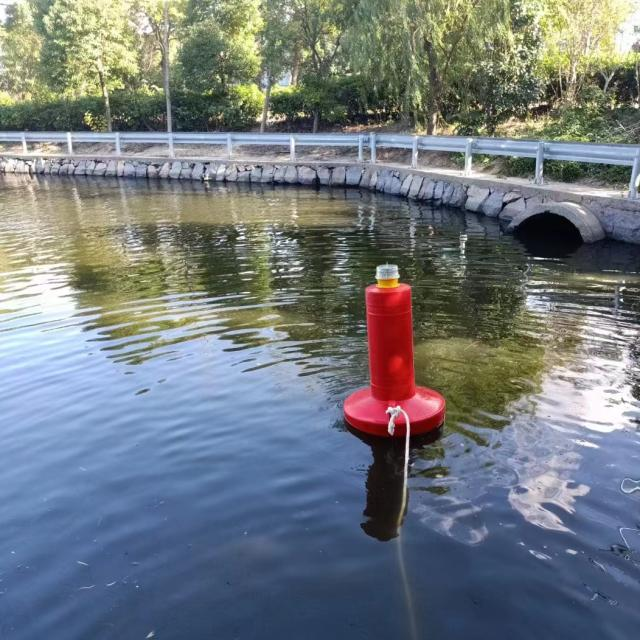buoy: (337, 253, 446, 431)
